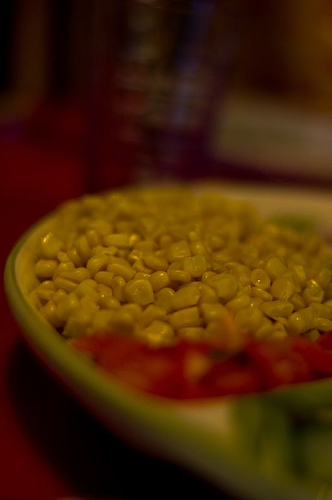corn: (31, 189, 330, 346)
